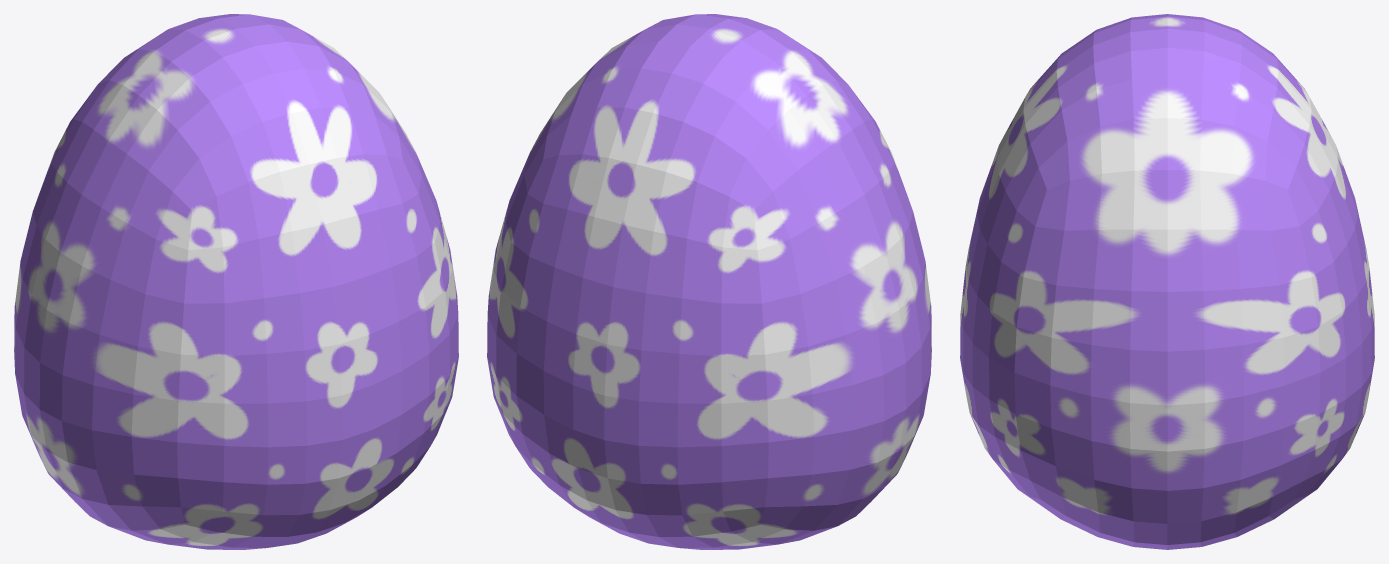
File: Egg_Purple.fbx
3 renders of one model, left to right at view 1: azimuth 30°, elevation 25°; view 2: azimuth 150°, elevation 25°; view 3: azimuth 270°, elevation 25°, orthographic.
Visible parts, largest first — view 1: Egg; view 2: Egg; view 3: Egg.
Part boxes in pixels (x1,y1,x2,y2): Egg: (14, 14, 458, 549); Egg: (487, 14, 931, 549); Egg: (960, 14, 1374, 549).
Size of the model in its own units: 210 by 256 by 195.
Materials: 1 (1 with a texture image).
